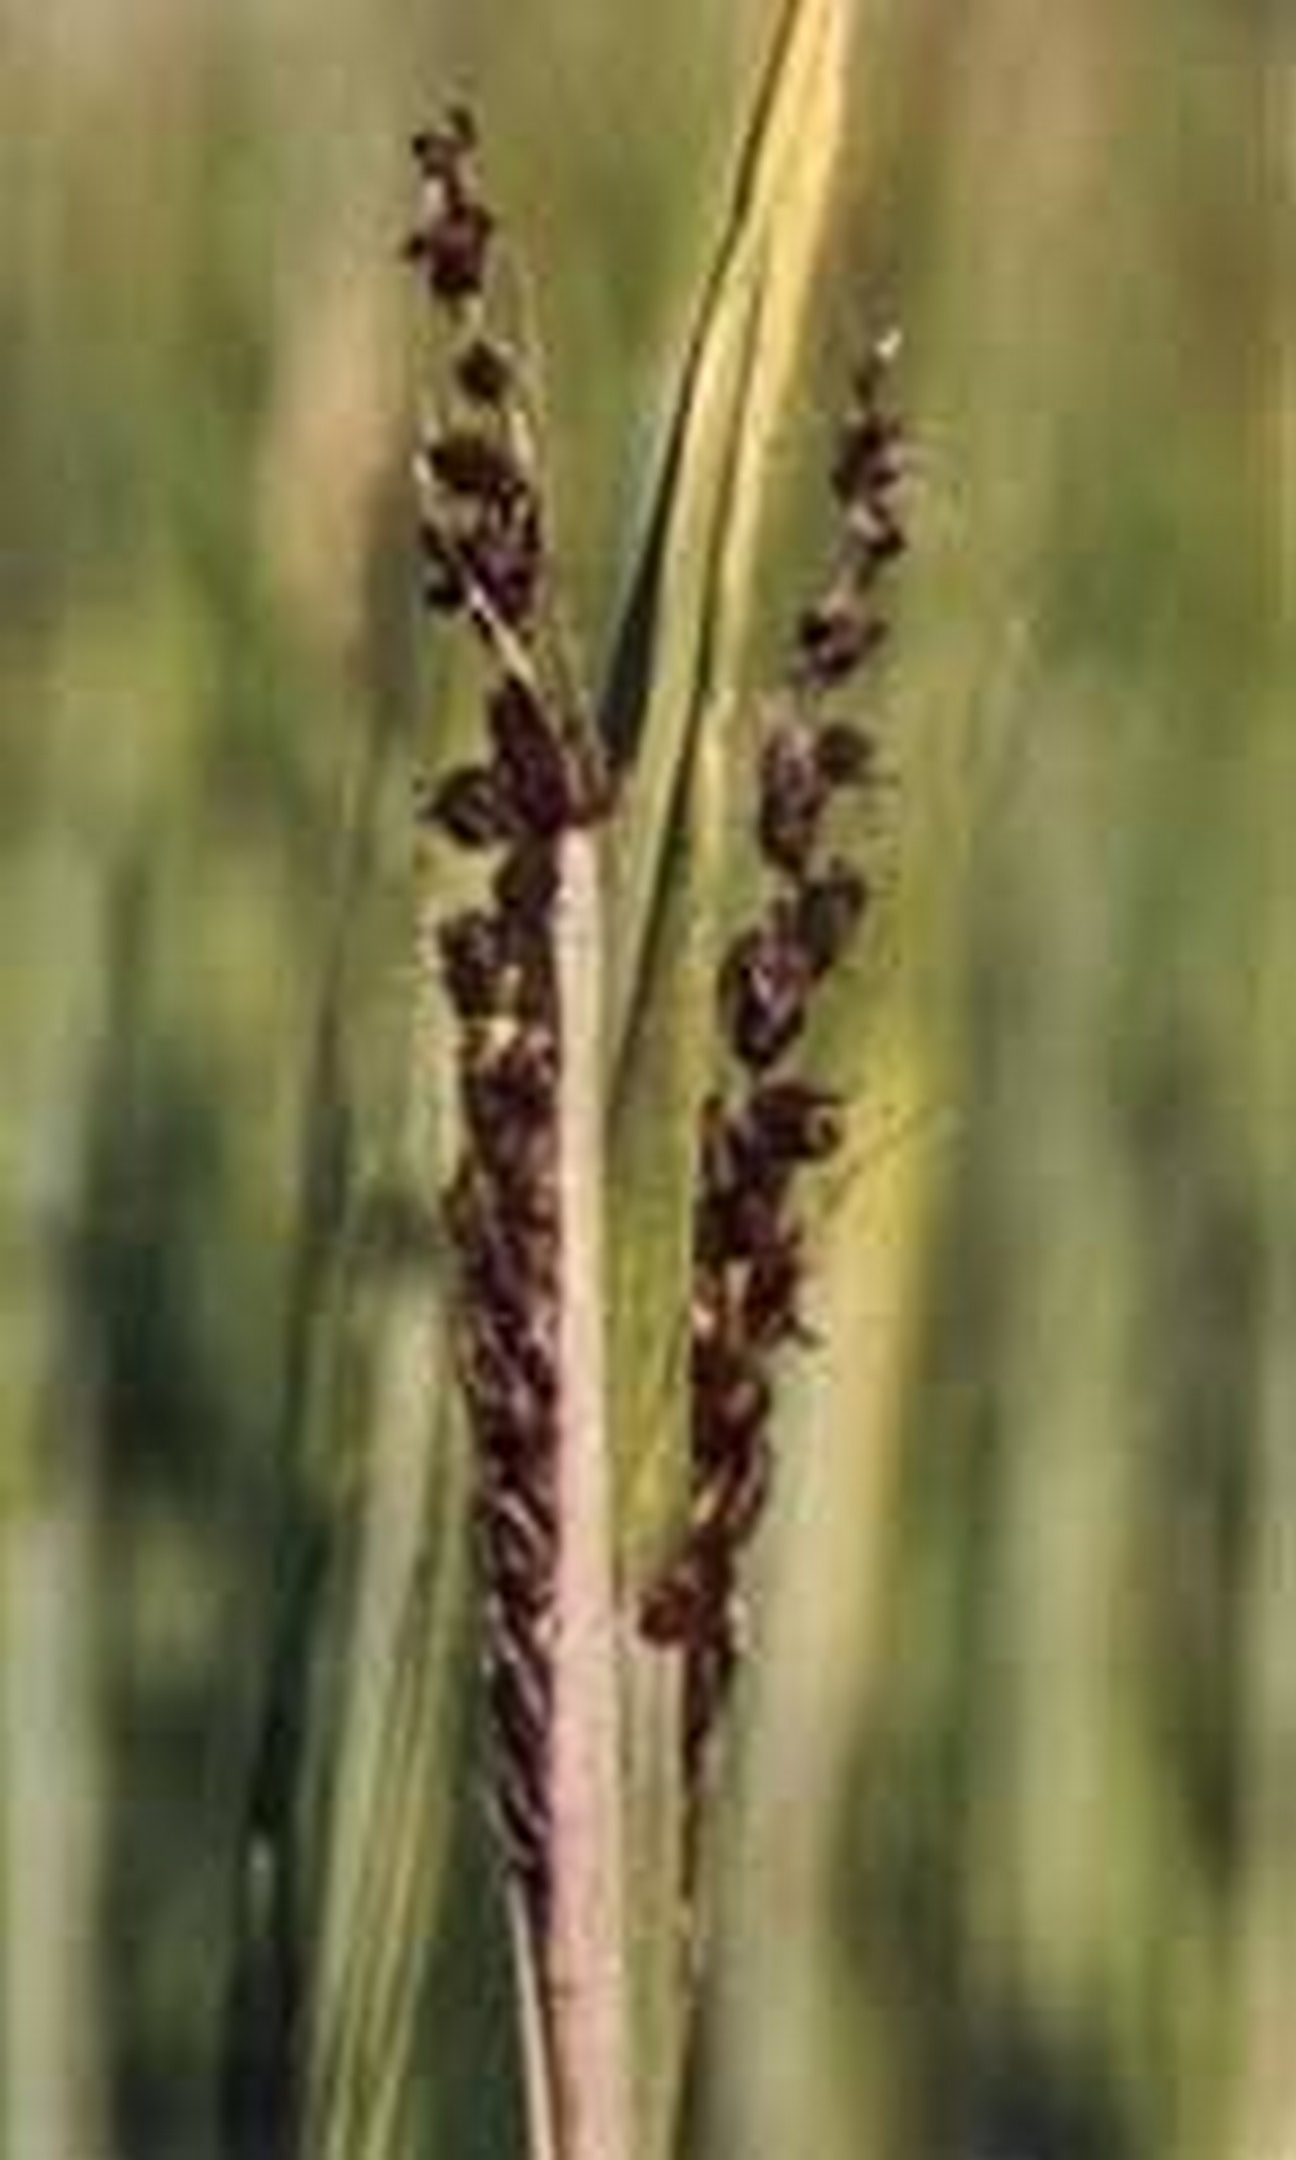Wheat Loose Smut: (349, 191, 940, 1719)
